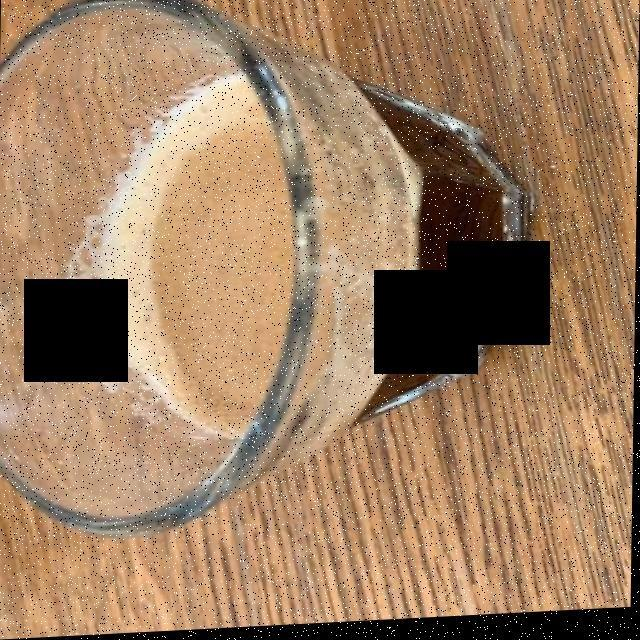drink: (143, 87, 294, 417)
